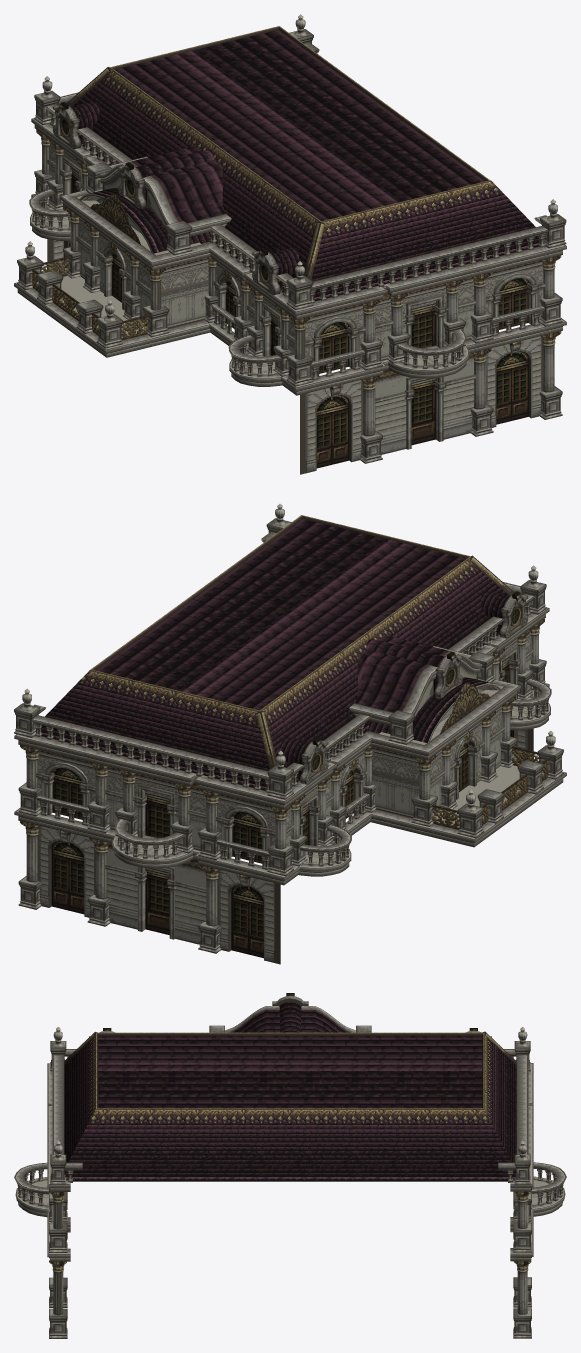
File: EnvBdgMD_Mansion_Arlond_A.FBX
3 views of the same model, one above another, from view 1: azimuth 30°, elevation 25°; view 2: azimuth 150°, elevation 25°; view 3: azimuth 270°, elevation 25° (orthographic). The views are drawn at different scales.
Parts seen in each view (by area): view 1: EnvBdgMD_Mansion_Arlond_A; view 2: EnvBdgMD_Mansion_Arlond_A; view 3: EnvBdgMD_Mansion_Arlond_A.
Boxes of the visible parts, x1,y1,x2,y2 form: EnvBdgMD_Mansion_Arlond_A: (14,14,566,474); EnvBdgMD_Mansion_Arlond_A: (14,504,566,964); EnvBdgMD_Mansion_Arlond_A: (14,993,566,1338).
Bounding box in the file's own units: 1633 × 949 × 2263.
Materials: 1 (1 with a texture image).
